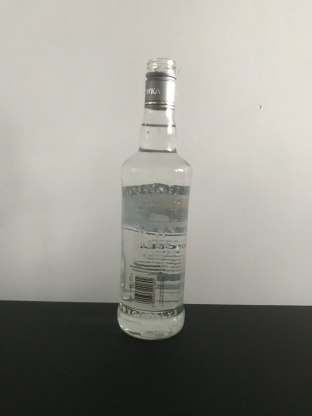nakretka: (142, 54, 178, 111)
